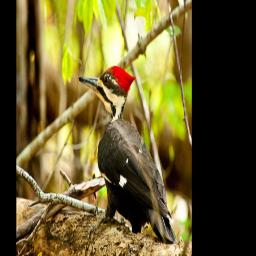Woodpecker: (77, 67, 175, 245)
